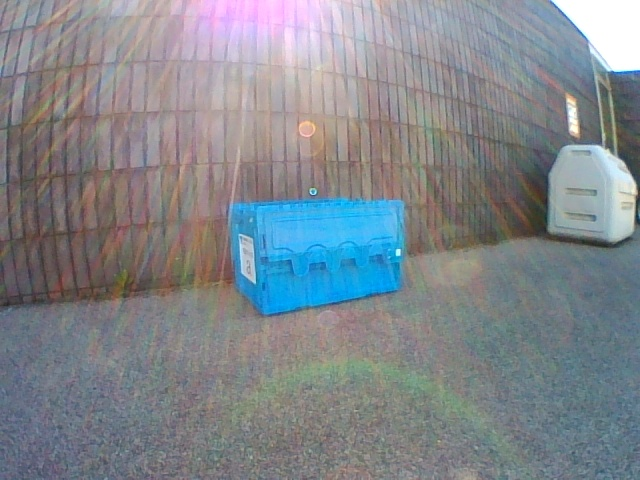blue_box: (231, 199, 402, 316)
tag_a: (242, 239, 253, 276)
